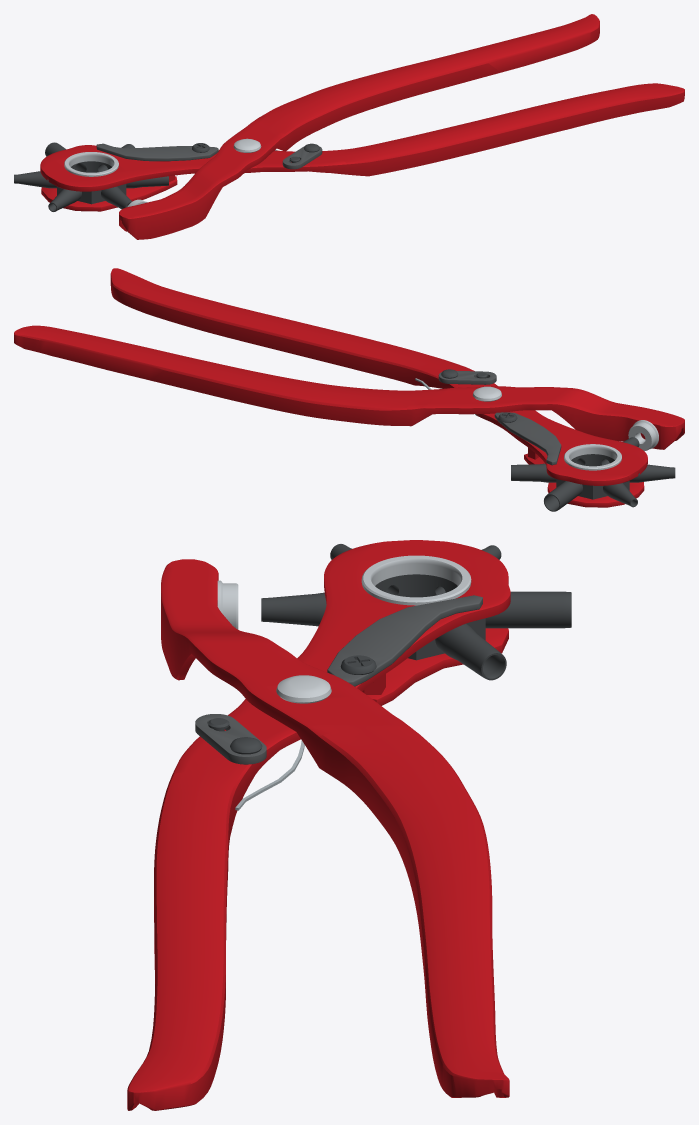
3 views of the same model, one above another, from view 1: azimuth 30°, elevation 25°; view 2: azimuth 150°, elevation 25°; view 3: azimuth 270°, elevation 25° (orthographic). The views are drawn at different scales.
Parts seen in each view (by area): view 1: die_arm_and_upper_grip, turret_arm_and_lower_grip, crescent_indexing_lever, lower_turret_cheek, upper_annular_head_bearing, indexed_punch_carrier, slotted_storage_catch, hollow_punch_5, hollow_punch_6, hollow_punch_1; view 2: die_arm_and_upper_grip, turret_arm_and_lower_grip, crescent_indexing_lever, upper_annular_head_bearing, lower_turret_cheek, indexed_punch_carrier, hollow_punch_4, hollow_punch_3, opposing_pierced_die, slotted_storage_catch, hollow_punch_6, hollow_punch_5; view 3: die_arm_and_upper_grip, turret_arm_and_lower_grip, crescent_indexing_lever, upper_annular_head_bearing, hollow_punch_4, hollow_punch_3, lower_turret_cheek, indexed_punch_carrier, hollow_punch_1, slotted_storage_catch, main_pivot_rivet.
Part boxes in pixels (x1,y1,x2,y2): die_arm_and_upper_grip: [119, 14, 599, 239]; turret_arm_and_lower_grip: [40, 83, 684, 191]; crescent_indexing_lever: [96, 143, 218, 161]; lower_turret_cheek: [41, 176, 177, 211]; upper_annular_head_bearing: [64, 152, 118, 176]; indexed_punch_carrier: [57, 161, 126, 204]; slotted_storage_catch: [282, 146, 322, 169]; hollow_punch_5: [14, 171, 56, 188]; hollow_punch_6: [48, 189, 81, 211]; hollow_punch_1: [101, 186, 132, 209]; die_arm_and_upper_grip: [14, 325, 684, 449]; turret_arm_and_lower_grip: [110, 268, 647, 485]; crescent_indexing_lever: [494, 412, 561, 465]; upper_annular_head_bearing: [564, 444, 621, 470]; lower_turret_cheek: [524, 453, 644, 507]; indexed_punch_carrier: [556, 454, 629, 499]; hollow_punch_4: [544, 481, 582, 511]; hollow_punch_3: [511, 463, 556, 482]; opposing_pierced_die: [628, 420, 658, 450]; slotted_storage_catch: [438, 370, 496, 384]; hollow_punch_6: [629, 464, 675, 482]; hollow_punch_5: [603, 483, 637, 507]; die_arm_and_upper_grip: [161, 559, 509, 1097]; turret_arm_and_lower_grip: [127, 540, 510, 1110]; crescent_indexing_lever: [327, 595, 482, 686]; upper_annular_head_bearing: [361, 555, 471, 605]; hollow_punch_4: [485, 591, 571, 628]; hollow_punch_3: [435, 623, 506, 680]; lower_turret_cheek: [367, 628, 508, 705]; indexed_punch_carrier: [375, 574, 485, 660]; hollow_punch_1: [261, 592, 326, 626]; slotted_storage_catch: [195, 714, 266, 764]; main_pivot_rivet: [276, 675, 331, 703].
Size of the model in its own units: 0.222 by 0.0143 by 0.073.
